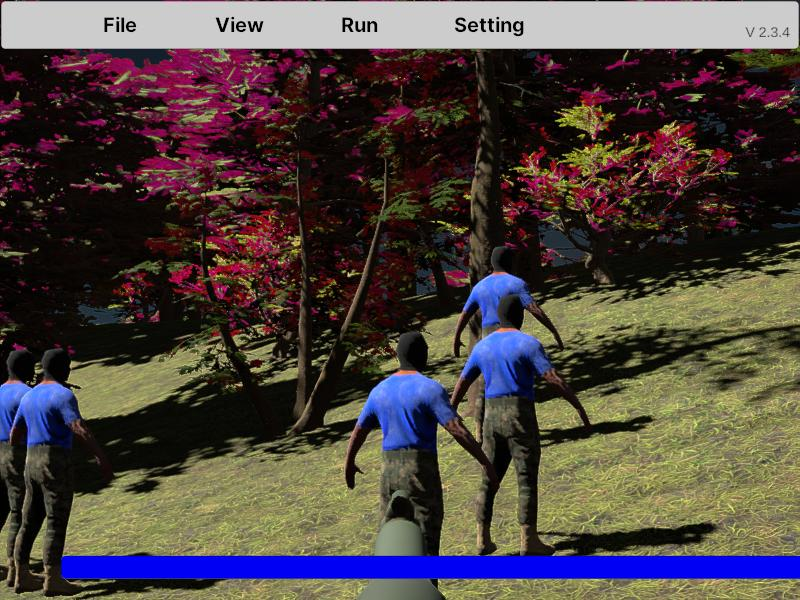Human: (446, 291, 591, 561), (343, 327, 486, 583), (8, 346, 104, 599), (452, 245, 564, 456), (0, 347, 54, 582)
